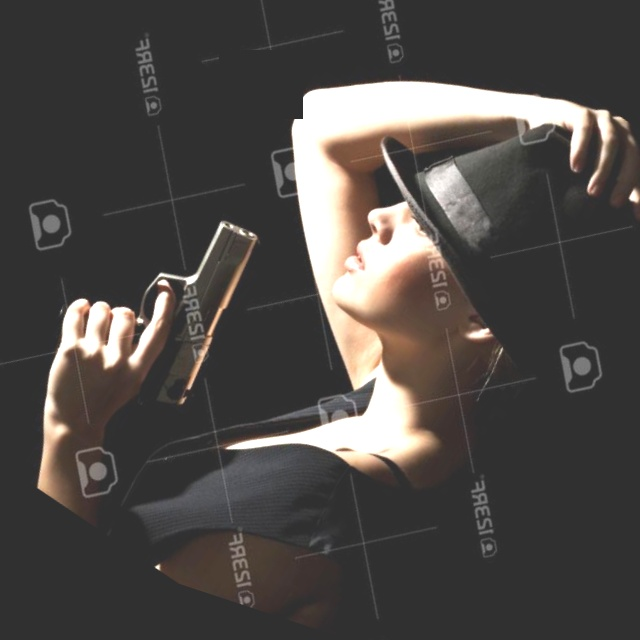gun: (0, 125, 311, 496)
